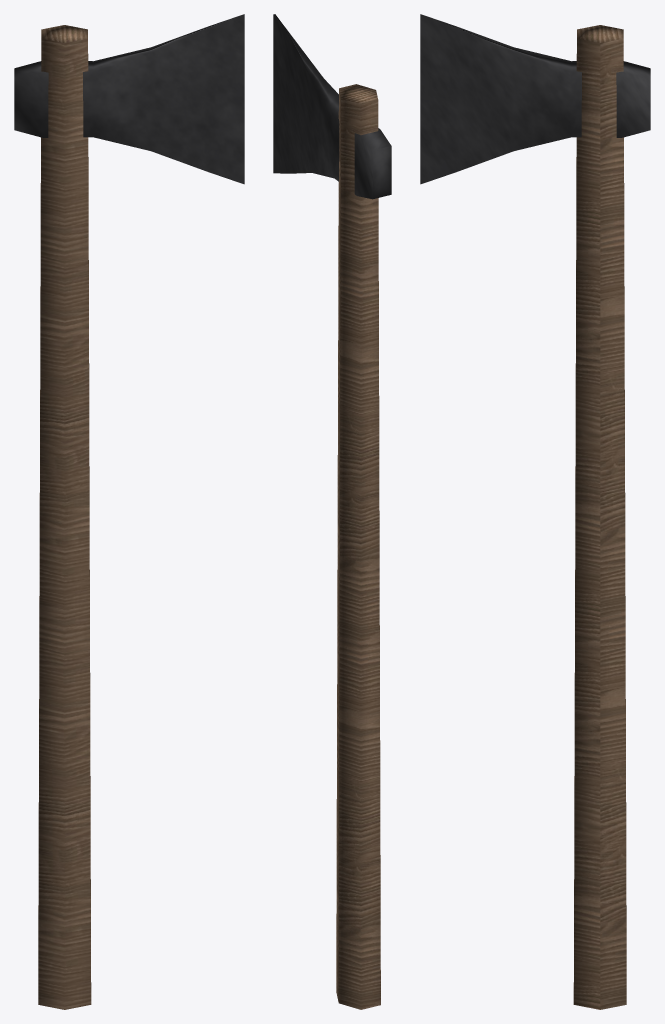
The model's file is it_axe.glb.
3 views of the same model, side by side, from view 1: azimuth 90°, elevation 25°; view 2: azimuth 210°, elevation 25°; view 3: azimuth 270°, elevation 25° (orthographic). The views are drawn at different scales.
Parts seen in each view (by area): view 1: it_axe_lod0; view 2: it_axe_lod0; view 3: it_axe_lod0.
Boxes of the visible parts, x1,y1,x2,y2 form: it_axe_lod0: [14, 14, 244, 1009]; it_axe_lod0: [273, 14, 391, 1009]; it_axe_lod0: [420, 14, 650, 1009].
Size of what is drawn, in the model's own units: 0.034 by 0.755 by 0.16.
2 materials, 2 textured.
